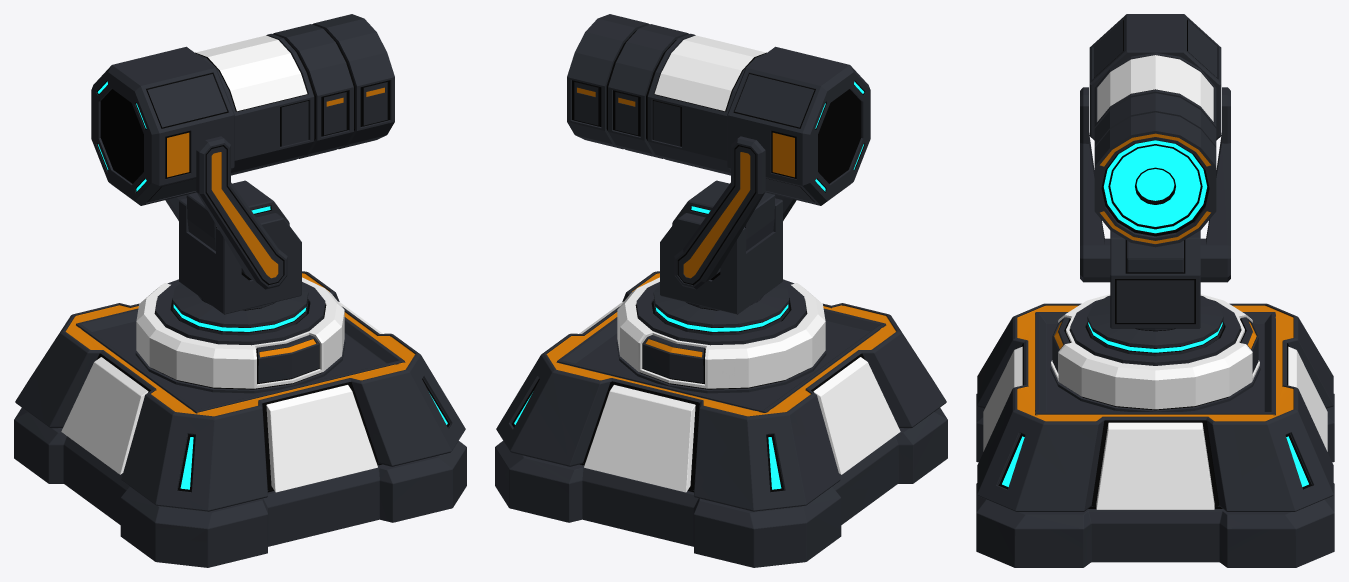
File: SM_Spotlight.fbx
3 views of the same model, side by side, from view 1: azimuth 30°, elevation 25°; view 2: azimuth 150°, elevation 25°; view 3: azimuth 270°, elevation 25° (orthographic).
Parts seen in each view (by area): view 1: SM_Spotlight_Base, SM_Spotlight_Lamp, SM_Spotlight_Yoke; view 2: SM_Spotlight_Base, SM_Spotlight_Lamp, SM_Spotlight_Yoke; view 3: SM_Spotlight_Base, SM_Spotlight_Yoke, SM_Spotlight_Lamp.
Part boxes in pixels (bbox=[...]): SM_Spotlight_Base: bbox=[14, 271, 466, 567]; SM_Spotlight_Lamp: bbox=[91, 14, 394, 205]; SM_Spotlight_Yoke: bbox=[135, 136, 345, 393]; SM_Spotlight_Base: bbox=[495, 271, 947, 567]; SM_Spotlight_Lamp: bbox=[567, 14, 870, 205]; SM_Spotlight_Yoke: bbox=[616, 136, 826, 393]; SM_Spotlight_Base: bbox=[976, 303, 1334, 567]; SM_Spotlight_Yoke: bbox=[1050, 87, 1260, 411]; SM_Spotlight_Lamp: bbox=[1089, 14, 1221, 247].
Bounding box in the file's own units: 100 × 130 × 100.
